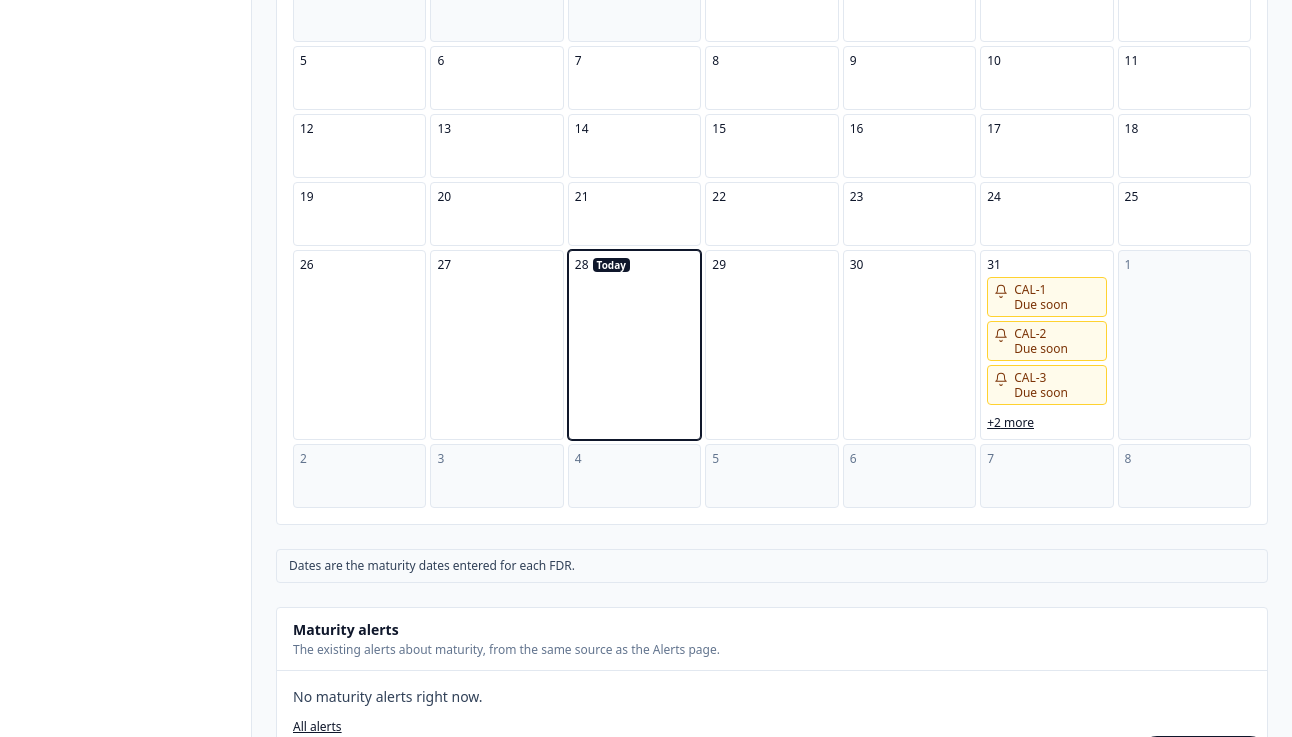
it: month view › collapses a crowded day to three events and a '+N more' button that opens that week
(page scrolled)
Expected: the number of links "CAL-1 Due soon" is 3, [987,277,1106,317]; [987,321,1106,361]; [987,365,1106,405]
What coordinates should you click on to do the following:
click the button "+2 more"
I would click on:
 (1010, 423)
Its box is [987,415,1034,431].
(page scrolled)
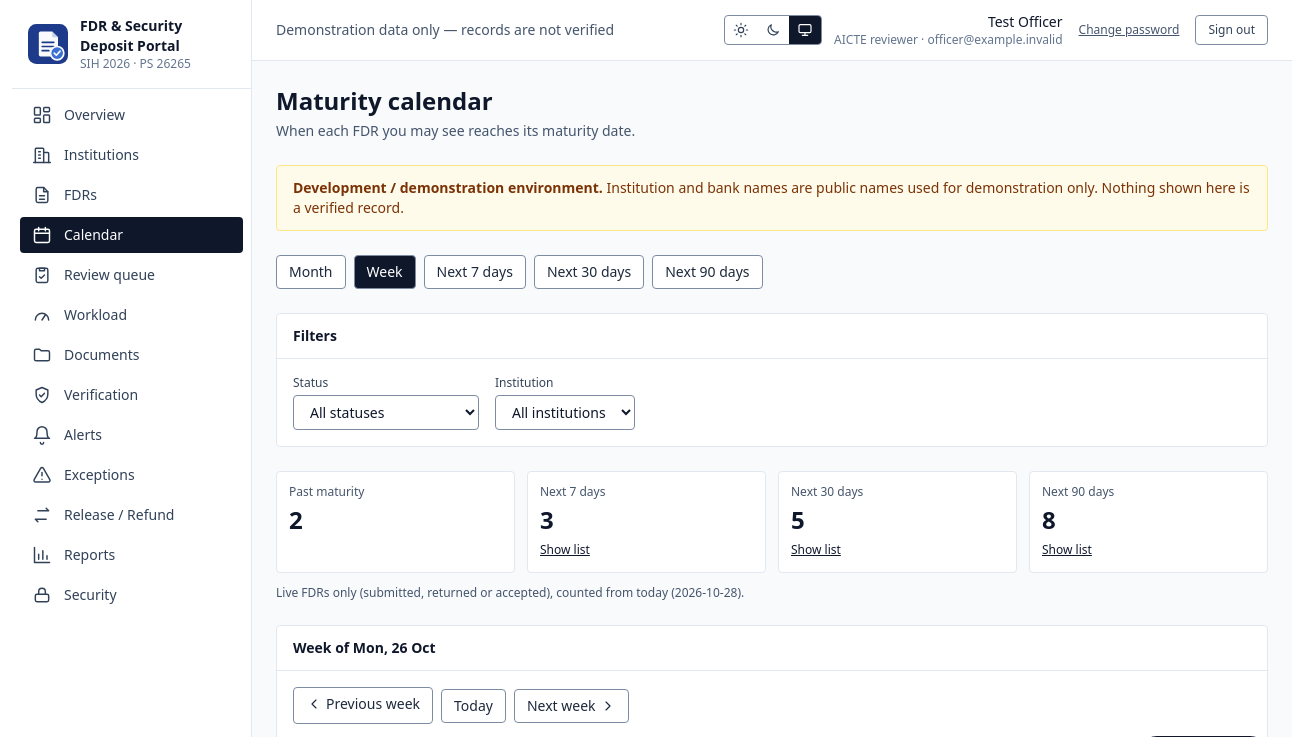
Now the number of links "CAL-1 Due soon" is 5
